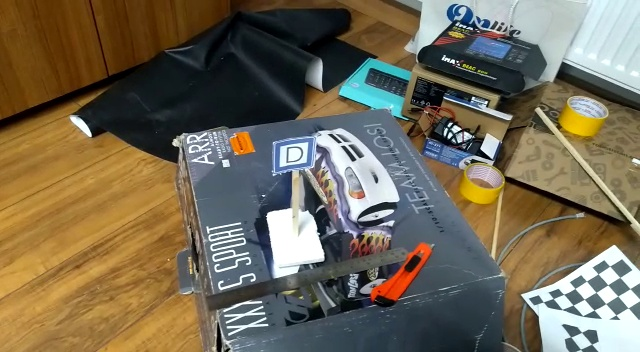durak: (270, 137, 316, 173)
